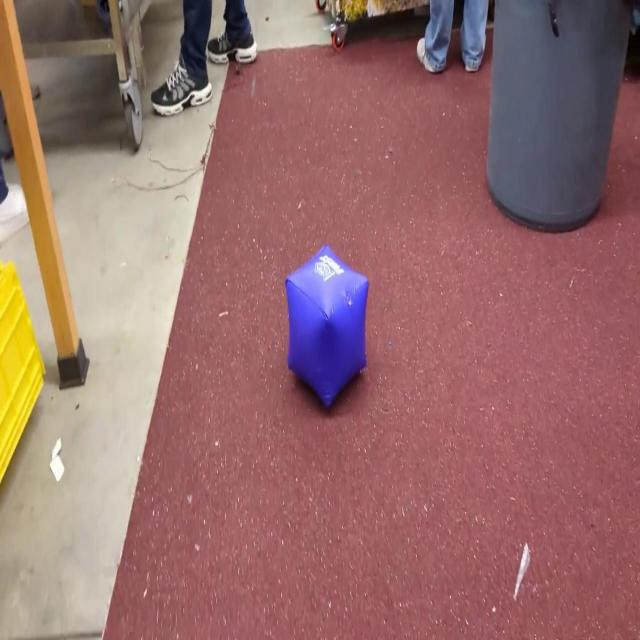frc_cube: (284, 242, 368, 410)
